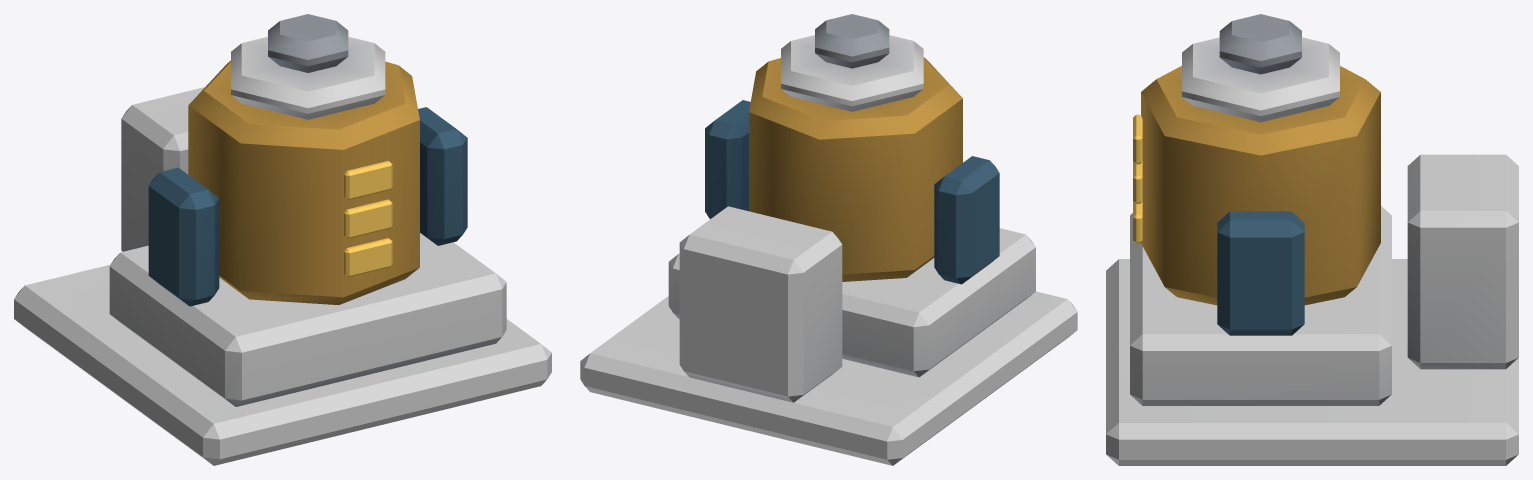
Rendered from R4X_Battery_LOD1.fbx.
3 views of the same model, side by side, from view 1: azimuth 30°, elevation 25°; view 2: azimuth 150°, elevation 25°; view 3: azimuth 270°, elevation 25° (orthographic). The views are drawn at different scales.
Visible parts, largest first — view 1: R4X_Battery_LOD1; view 2: R4X_Battery_LOD1; view 3: R4X_Battery_LOD1.
Part boxes in pixels (x1,y1,x2,y2): R4X_Battery_LOD1: (14, 14, 551, 465); R4X_Battery_LOD1: (580, 14, 1077, 465); R4X_Battery_LOD1: (1106, 14, 1518, 465).
Bounding box in the file's own units: 0.52 × 0.495 × 0.52.
